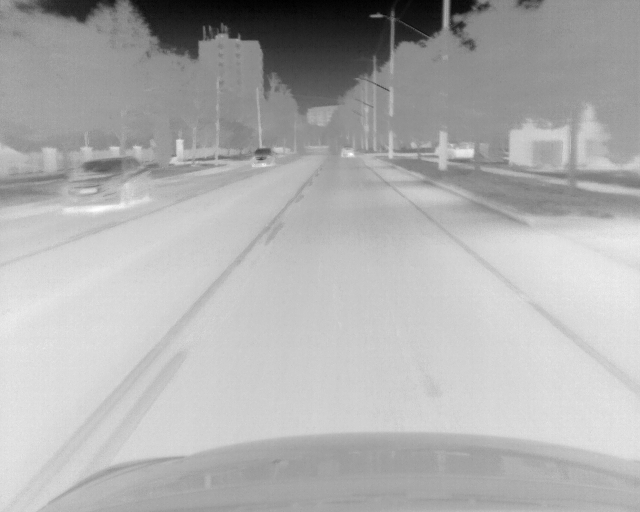car: (60, 156, 150, 208), (437, 141, 485, 161), (250, 146, 277, 168), (340, 146, 355, 159)
